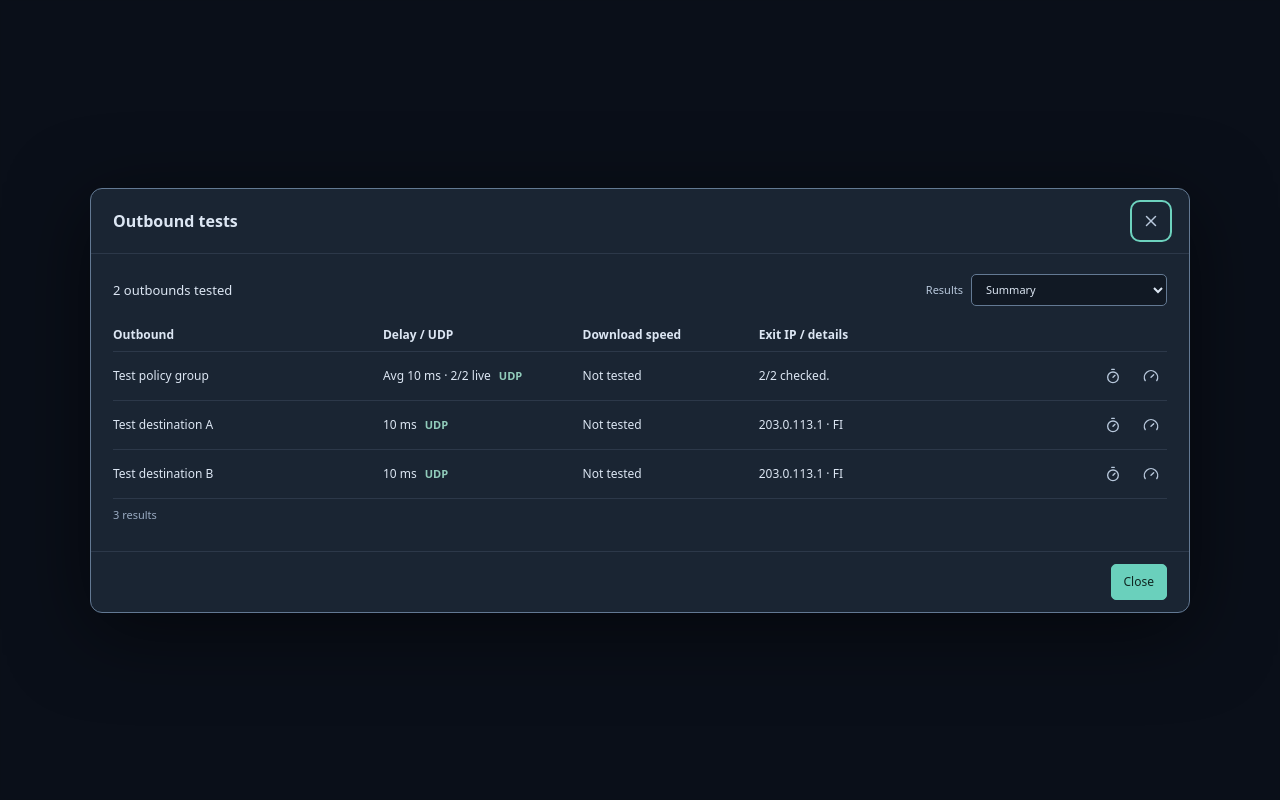
retests both measurements in-place and keeps the dialog, other results and individual members
Click the button named "Speed test Test policy group" at [1151, 376], box [1135,360,1167,392]
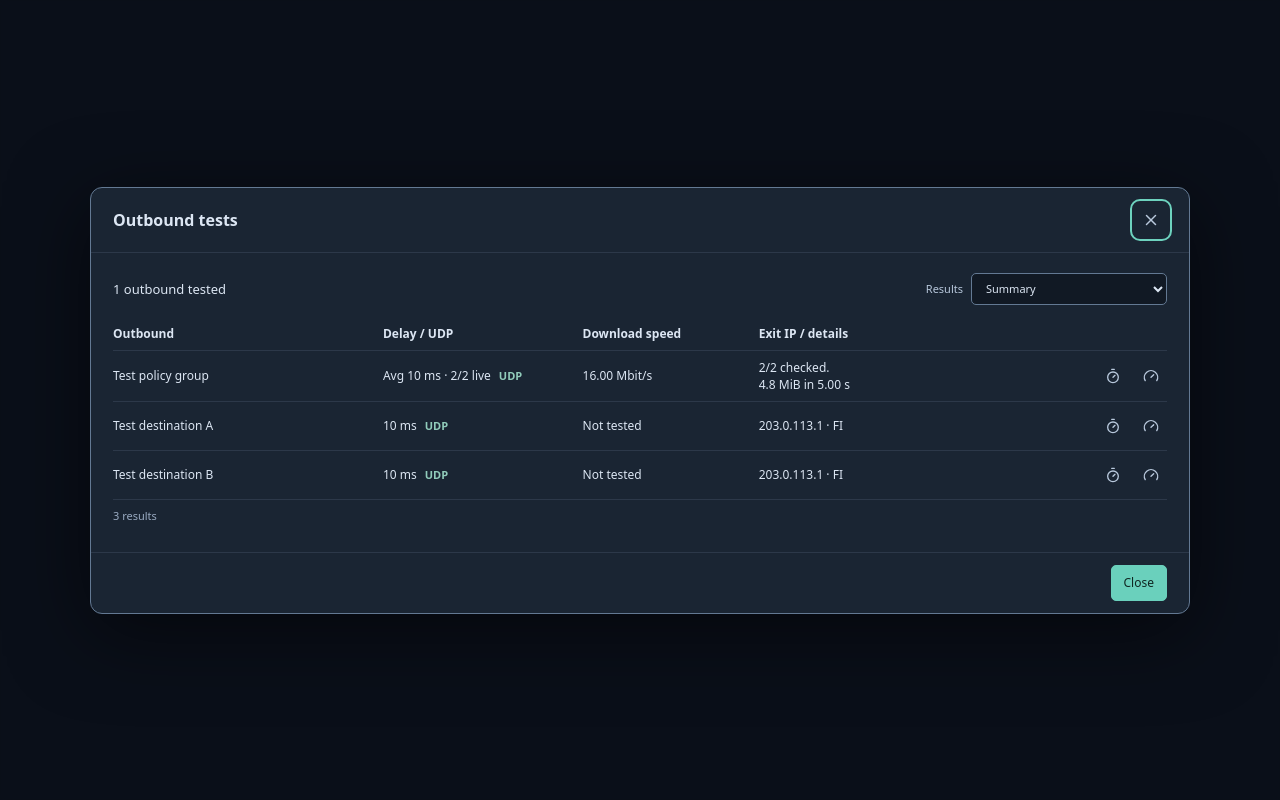
Expected: the text "Avg 10 ms" is shown, [383,367,491,384]
Now the cell "16.00 Mbit/s" is shown, box [582,367,652,384]
Now the text "16.00 Mbit/s" is shown, box [582,367,652,384]
Click the button named "Test delay / UDP for Test destination A" at [1113, 426], box [1097,410,1129,442]
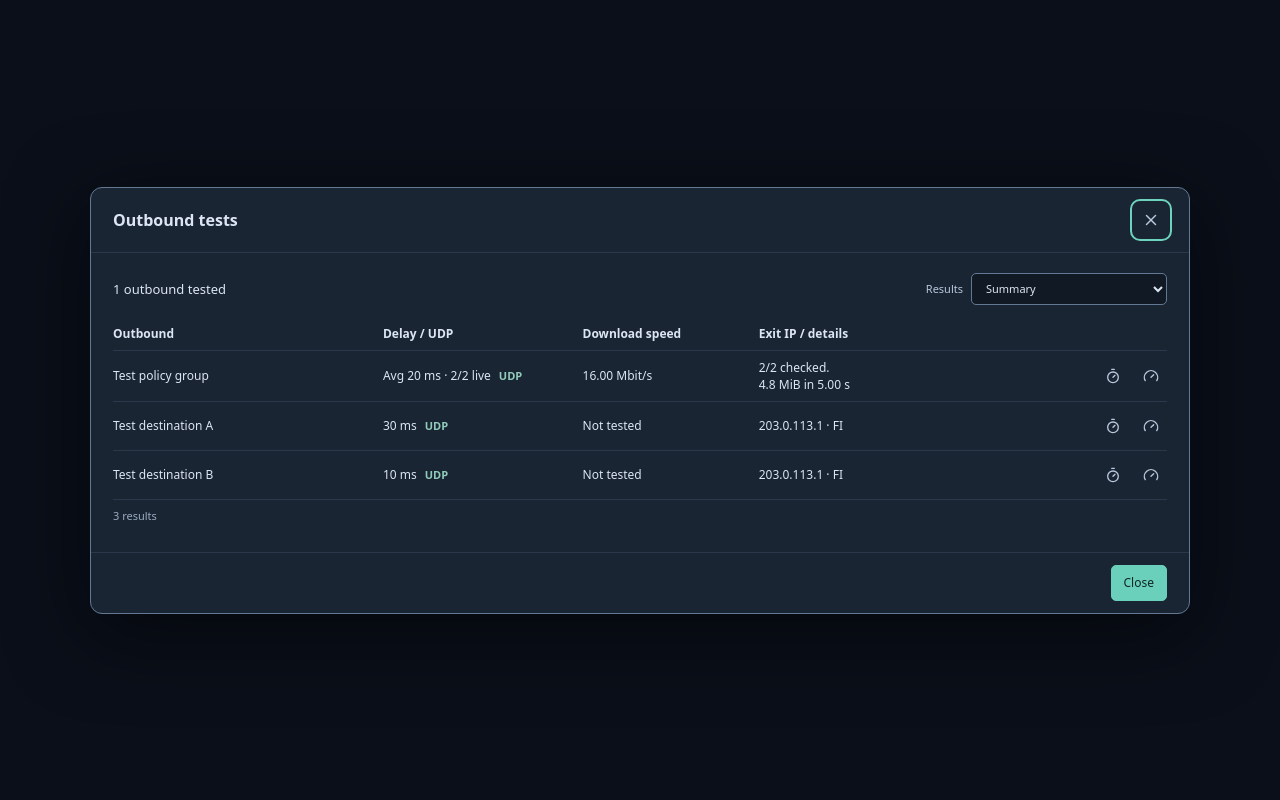
Select "Individual outbounds / chains" in the dropdown labelled "Results" at [1069, 288], box [971,272,1167,304]
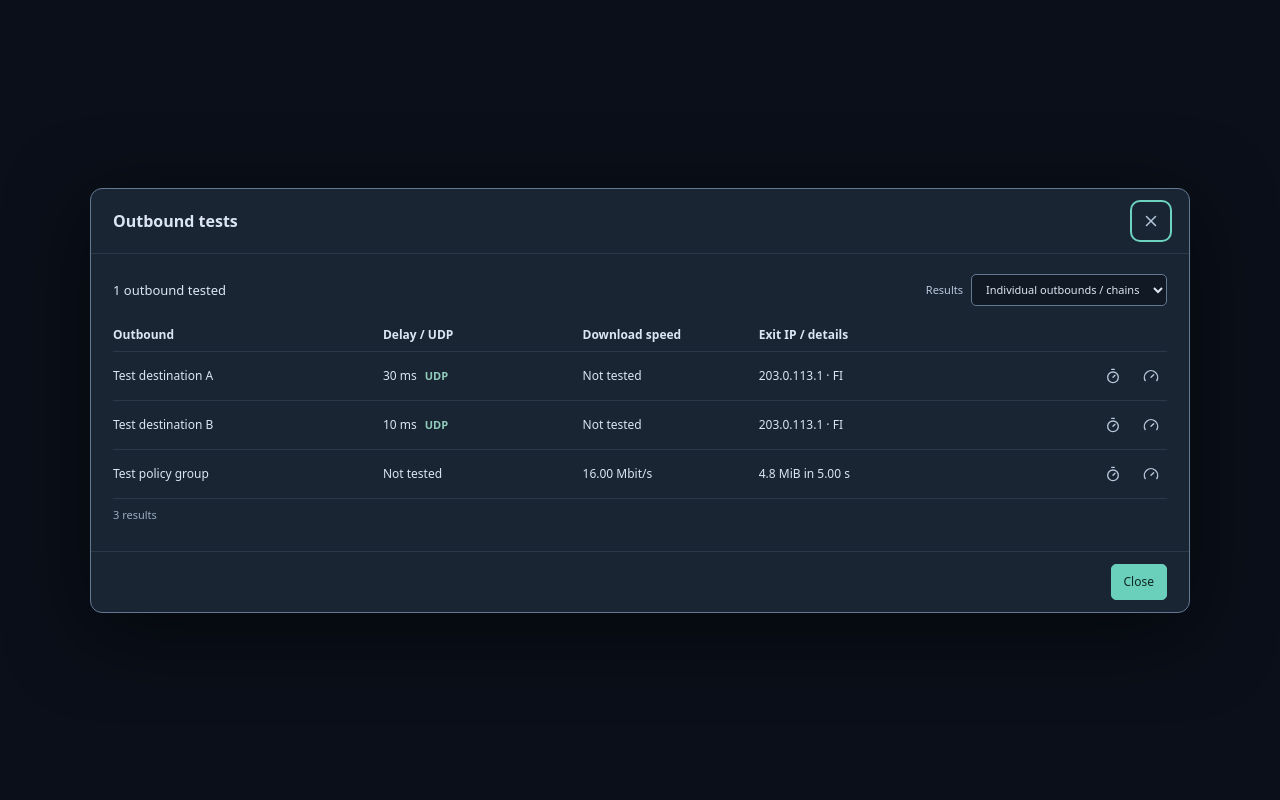
Expected: the number of rows is 4, [113,318,1167,352]; [113,352,1167,400]; [113,400,1167,450]; [113,450,1167,498]
Click the button named "Speed test Test destination B" at [1151, 424], box [1135,408,1167,440]
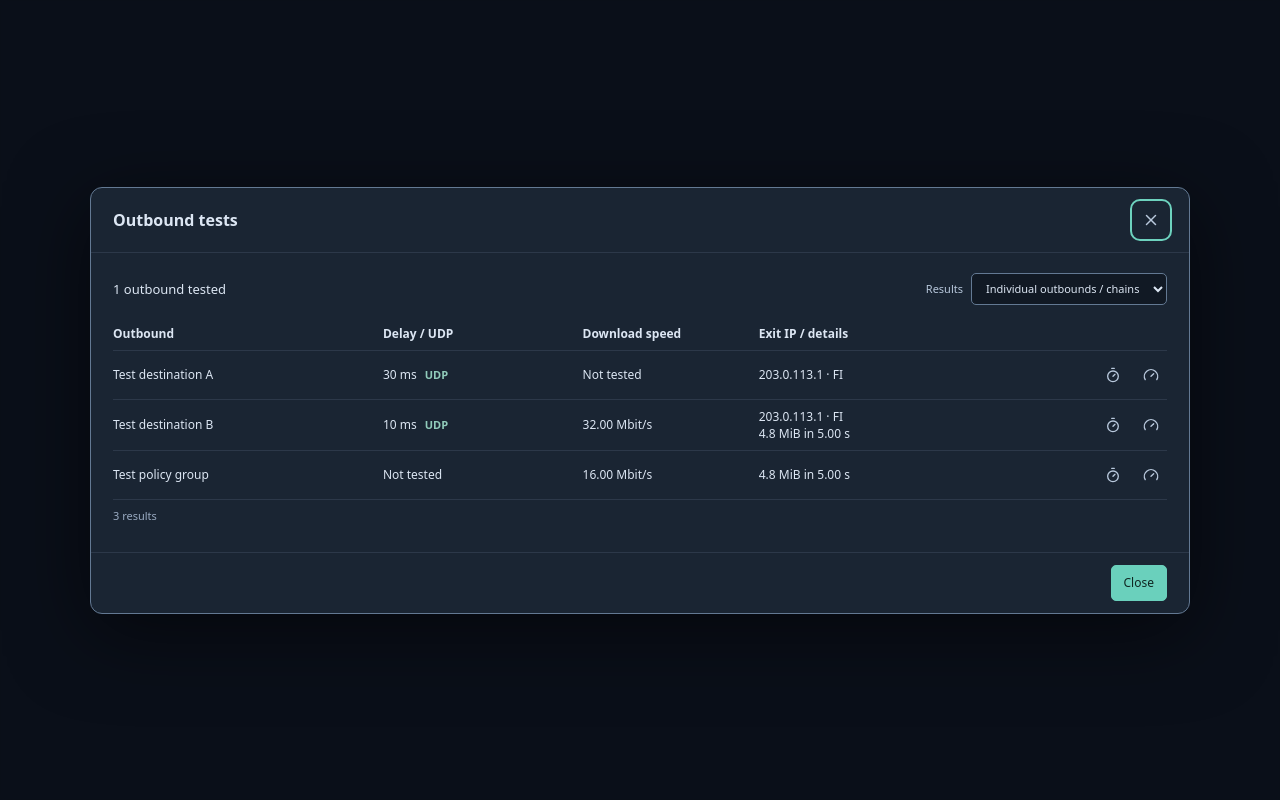
Now the cell "16.00 Mbit/s" is shown, box [582,466,652,483]
Now the cell "32.00 Mbit/s" is shown, box [582,416,652,433]
